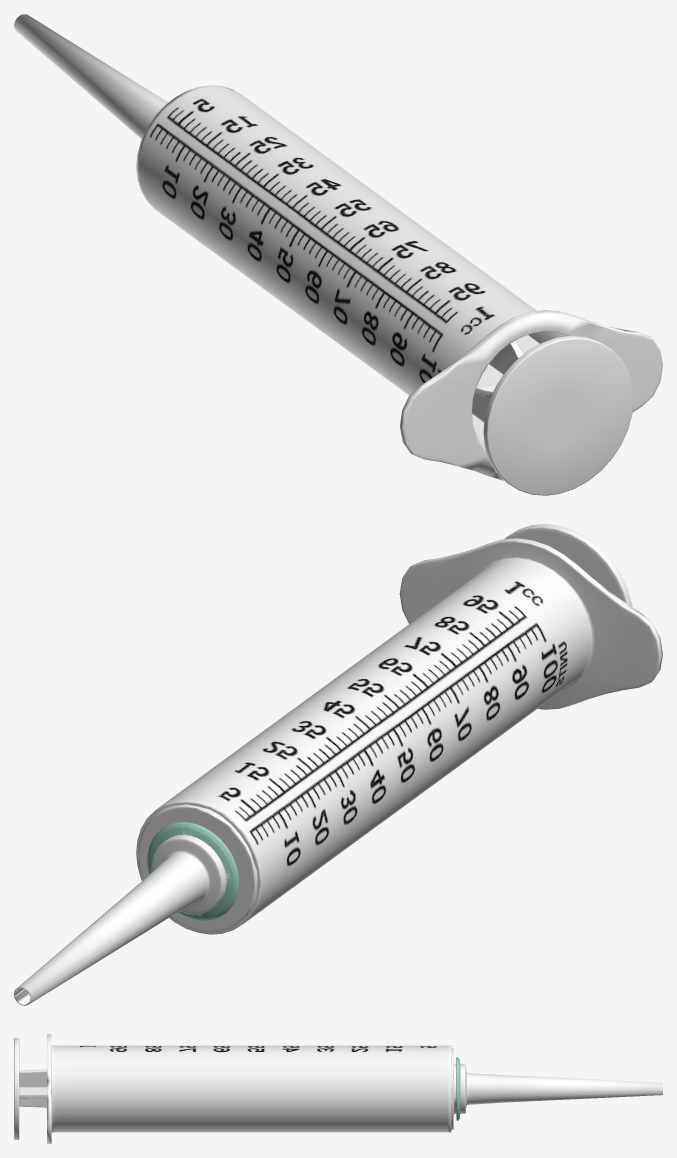
File: Syringe_Guyon.gltf
The picture shows the model from 3 angles, top to bottom: view 1: azimuth 30°, elevation 25°; view 2: azimuth 150°, elevation 25°; view 3: azimuth 270°, elevation 25°; orthographic projection. The views are drawn at different scales.
Parts seen in each view (by area): view 1: Syringe_Big_Body.001; view 2: Syringe_Big_Body.001; view 3: Syringe_Big_Body.001.
Part boxes in pixels (left/top/right/bottom): Syringe_Big_Body.001: left=14, top=14, right=662, bottom=495; Syringe_Big_Body.001: left=14, top=524, right=662, bottom=1005; Syringe_Big_Body.001: left=14, top=1034, right=662, bottom=1143.
Bounding box in the file's own units: 0.0388 × 0.0235 × 0.1388.
Materials: 1 (1 with a texture image).
